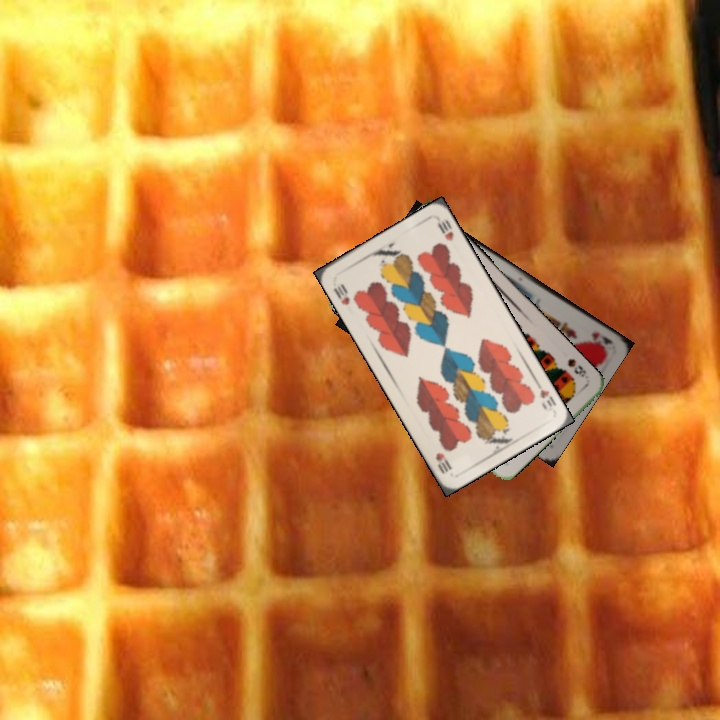H10: (531, 377, 559, 412), (329, 280, 352, 308)
HK: (587, 328, 615, 351)
S8: (563, 354, 591, 382)
